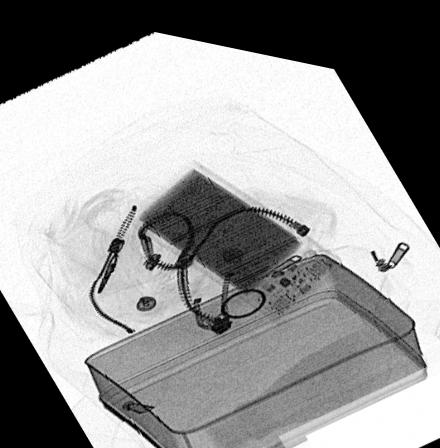Powerbank: (129, 152, 341, 314)
